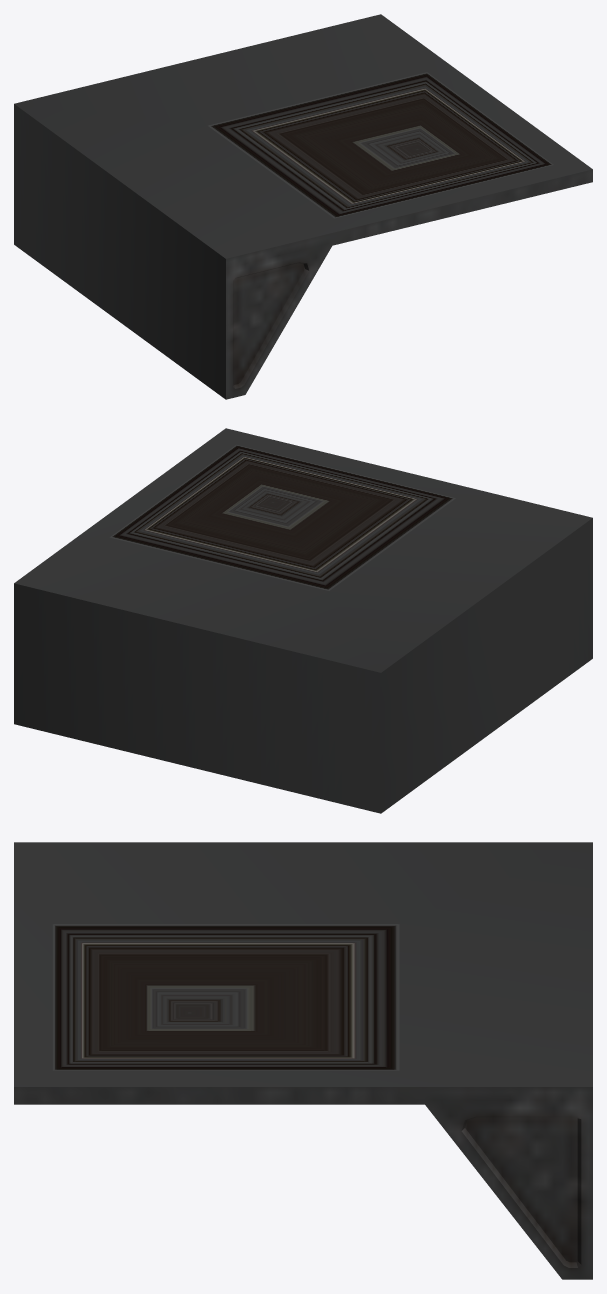
File: Ceiling_03.FBX
3 renders of one model, top to bottom at view 1: azimuth 30°, elevation 25°; view 2: azimuth 150°, elevation 25°; view 3: azimuth 270°, elevation 25°, orthographic. The views are drawn at different scales.
Visible parts, largest first — view 1: Ceiling_03; view 2: Ceiling_03; view 3: Ceiling_03.
Boxes of the visible parts, left/top/right/bottom form: Ceiling_03: left=14, top=14, right=592, bottom=399; Ceiling_03: left=14, top=428, right=592, bottom=813; Ceiling_03: left=14, top=842, right=592, bottom=1279.
Size of the model in its own units: 300 by 110 by 300.
